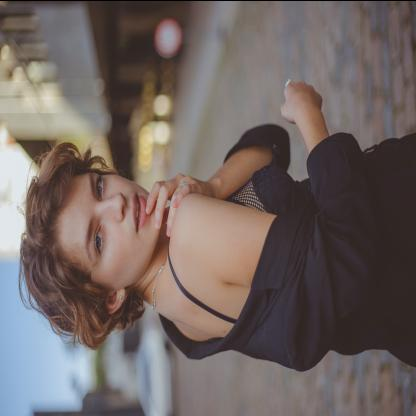Eye: (90, 218, 104, 258), (92, 174, 106, 202)
Mouth: (130, 188, 147, 234)
Nose: (100, 192, 126, 222)
